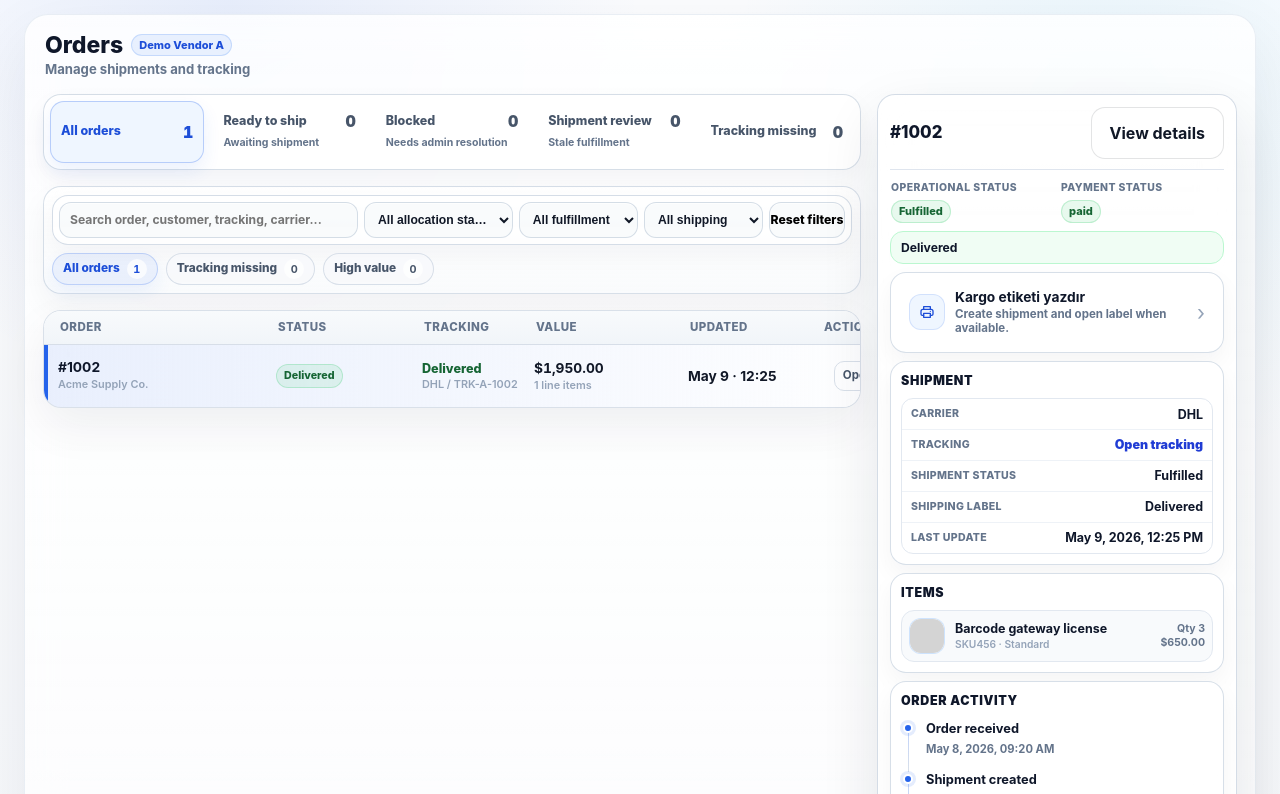
Test case: OrdersPage control center › preserves the local filter reset behavior under the Reset filters label
Type "DHL" into the search field with placeholder "Search order, customer, tracking, carrier..." at (208, 220), box [59, 202, 358, 238]
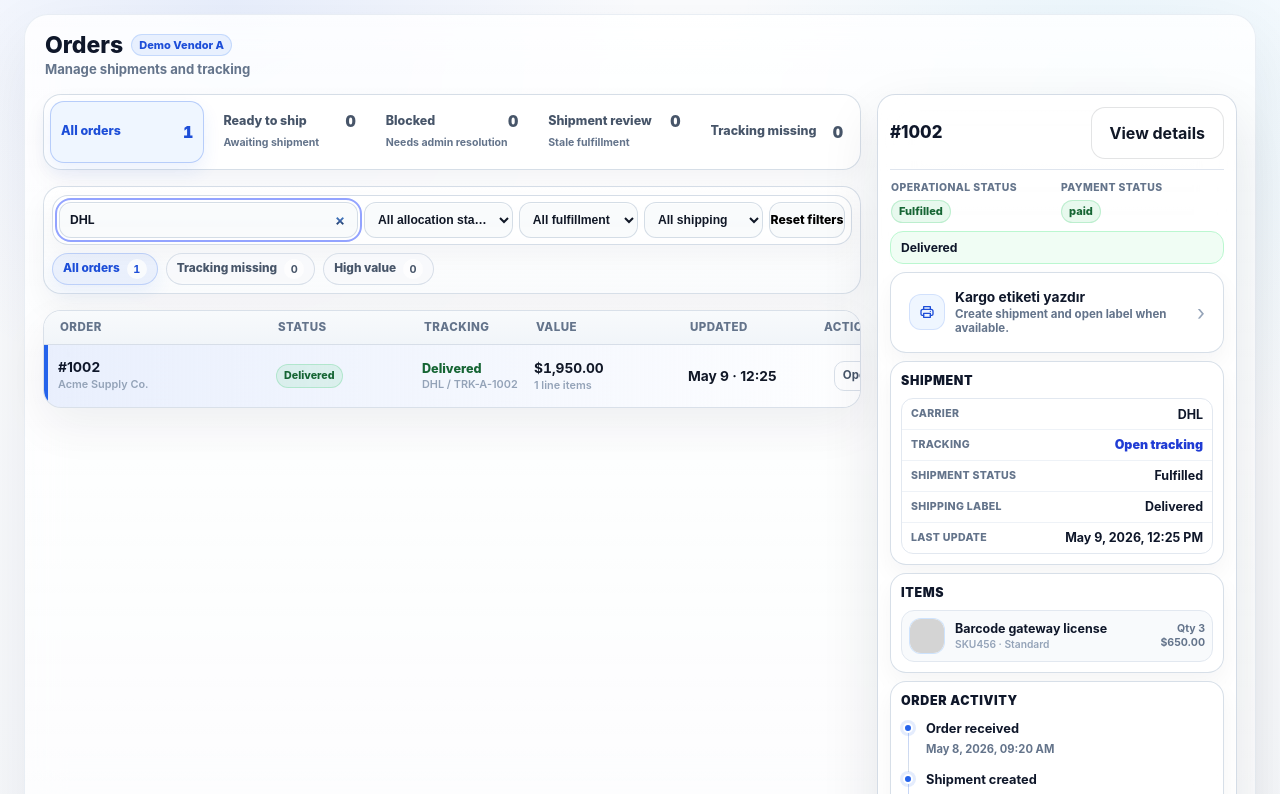
Select "Fulfilled allocation" in the 1st dropdown at (438, 220), box [364, 202, 513, 238]
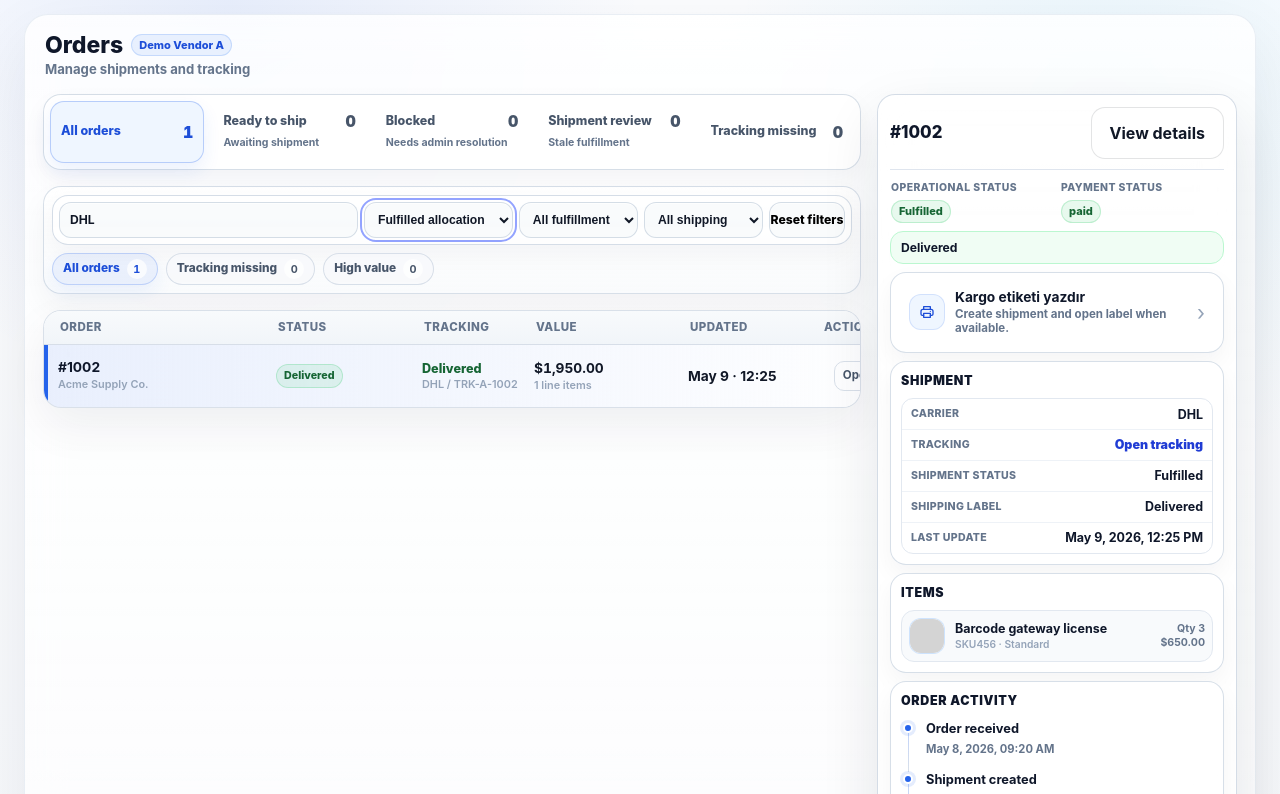
Select "Fulfilled" in the 2nd dropdown at (578, 220), box [519, 202, 638, 238]
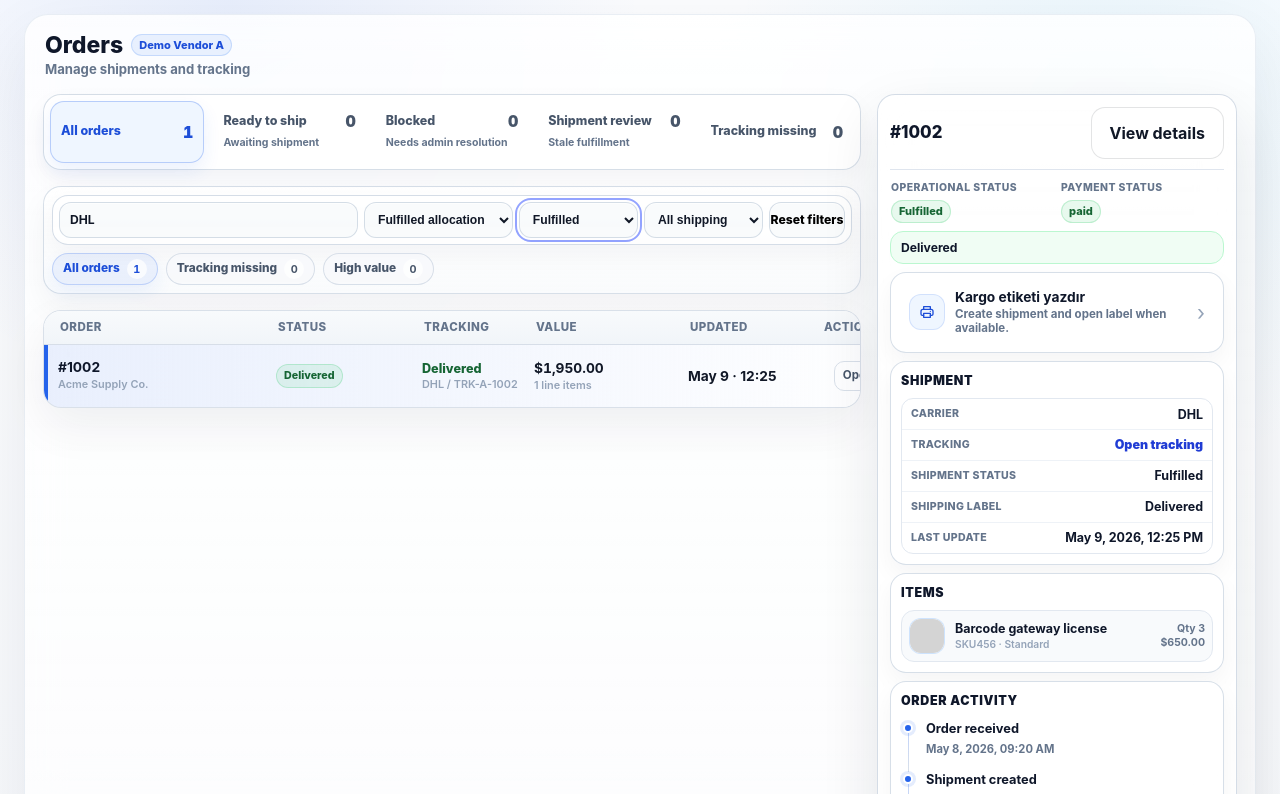
Select "Delivered" in the 3rd dropdown at (703, 220), box [644, 202, 763, 238]
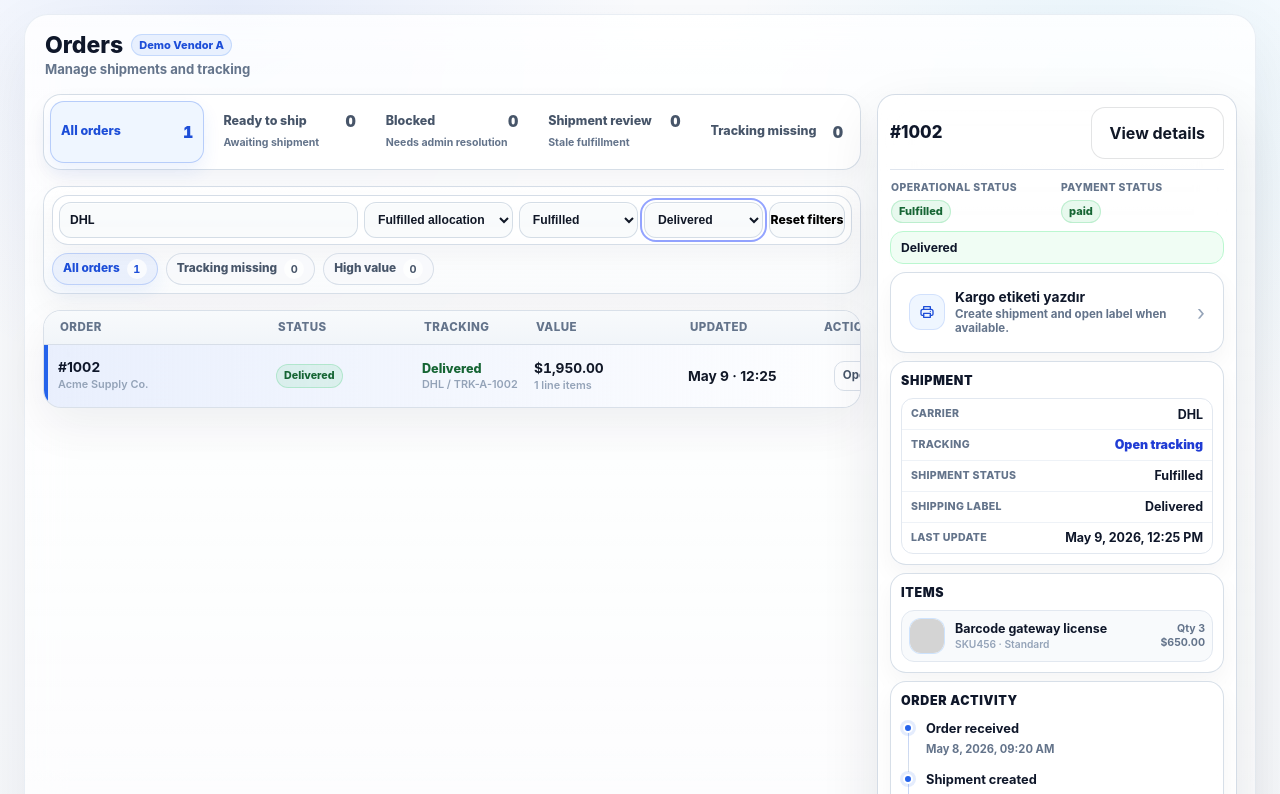
Click the button "High value 0" at (379, 269), box [323, 253, 434, 285]
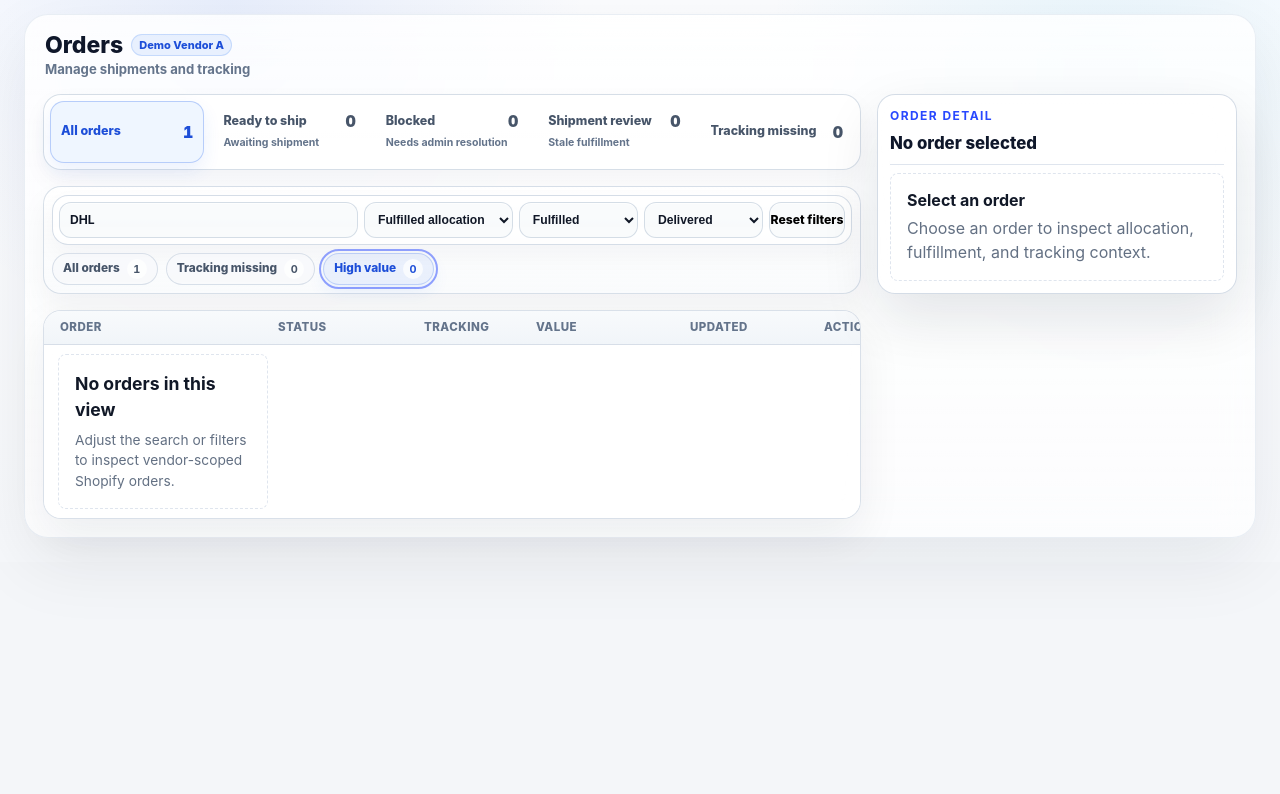
Check: the button "High value 0" has class "is-active", box [323, 253, 434, 285]
Click the button "Reset filters" at (807, 220), box [769, 202, 845, 238]
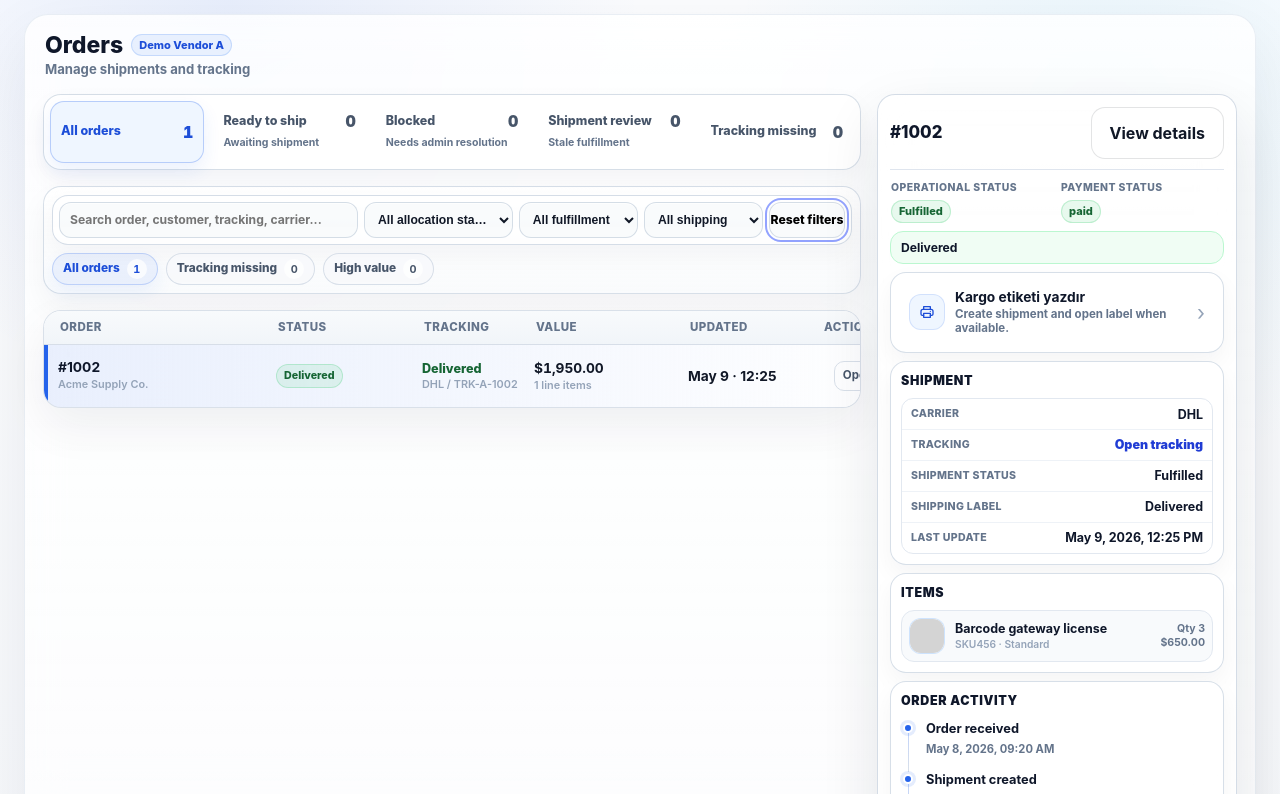
Check: the search field with placeholder "Search order, customer, tracking, carrier..." is empty, box [59, 202, 358, 238]
